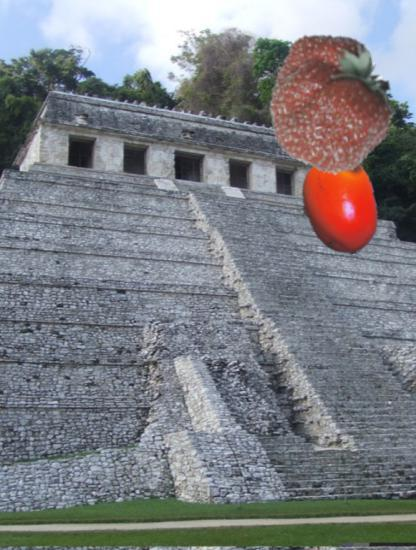Kaki: (288, 155, 389, 256)
Strawberry: (259, 30, 404, 175)
